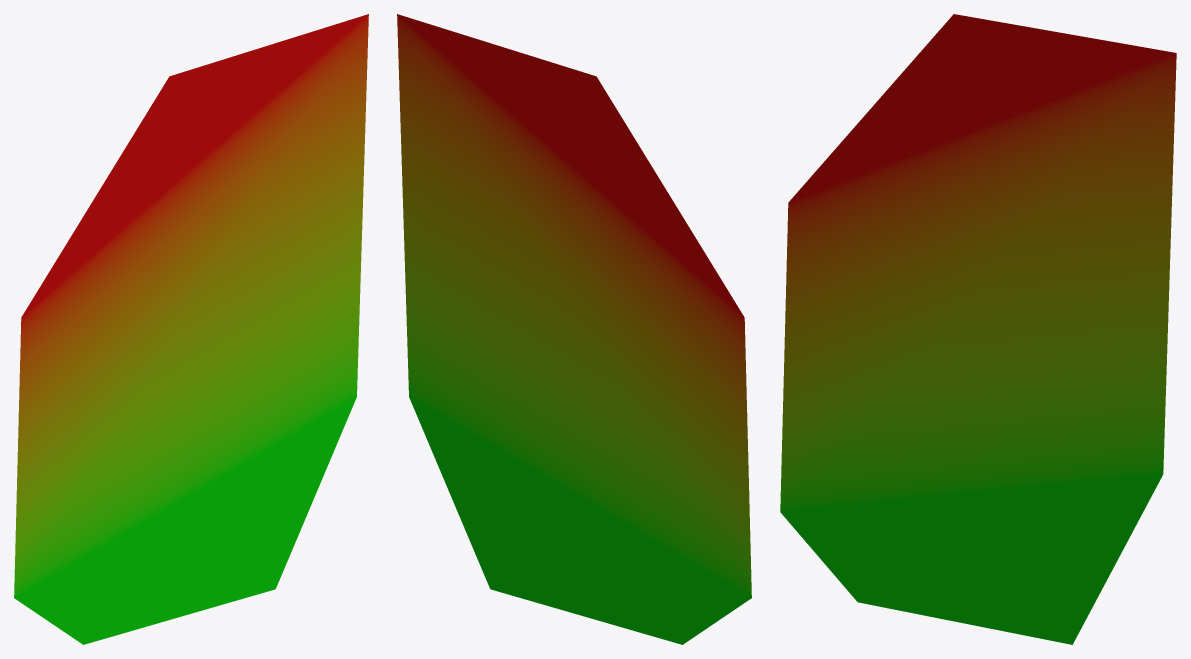
Rendered from Var6_LOD4.fbx.
3 views of the same model, side by side, from view 1: azimuth 30°, elevation 25°; view 2: azimuth 150°, elevation 25°; view 3: azimuth 330°, elevation 25° (orthographic). The views are drawn at different scales.
Visible parts, largest first — view 1: _ee69_Var6_LOD4; view 2: _ee69_Var6_LOD4; view 3: _ee69_Var6_LOD4.
Boxes of the visible parts, bbox=[...] form: _ee69_Var6_LOD4: bbox=[14, 14, 368, 644]; _ee69_Var6_LOD4: bbox=[397, 14, 751, 644]; _ee69_Var6_LOD4: bbox=[780, 14, 1176, 644].
Size of the model in its own units: 18.35 by 27.74 by 1.43e-06.
